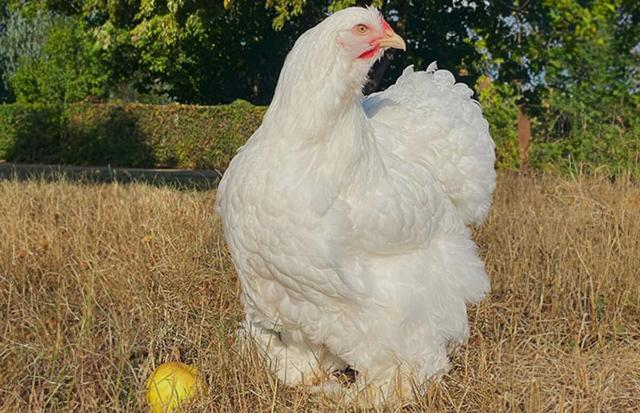Chicken: (214, 6, 498, 404)
